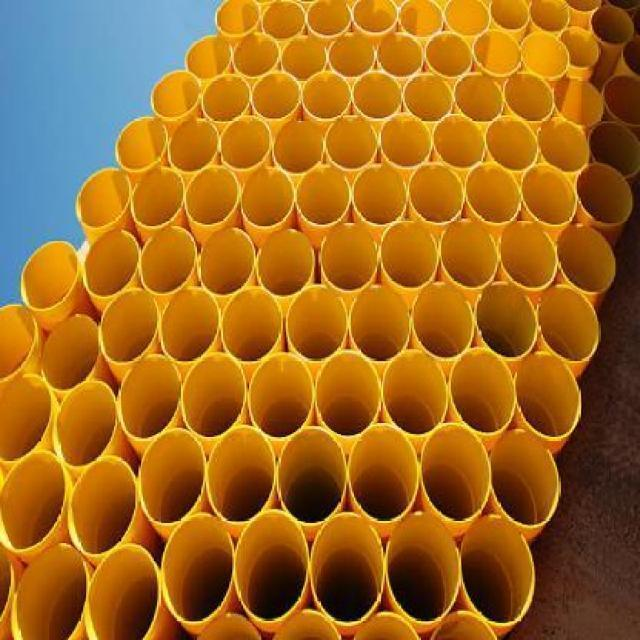pipe: (460, 515, 536, 626), (386, 511, 460, 624), (234, 511, 309, 622), (310, 513, 383, 626), (161, 513, 234, 624), (11, 542, 90, 639), (419, 422, 492, 524), (84, 543, 160, 639), (348, 423, 419, 522), (276, 427, 347, 525), (0, 451, 68, 553), (68, 455, 137, 555), (207, 426, 276, 524), (138, 427, 206, 525), (491, 430, 559, 528), (247, 353, 315, 439), (450, 347, 516, 435), (383, 350, 449, 438), (515, 350, 580, 439), (117, 355, 182, 443), (54, 379, 118, 468), (315, 350, 381, 436), (181, 354, 247, 439), (412, 282, 475, 361), (286, 285, 349, 363), (0, 374, 54, 465), (348, 284, 410, 363), (536, 285, 599, 362), (475, 280, 537, 358), (97, 288, 159, 365), (220, 288, 283, 363), (41, 315, 101, 393), (159, 288, 220, 363), (19, 241, 79, 312), (498, 220, 557, 291), (439, 220, 499, 288), (556, 225, 616, 293), (319, 223, 378, 292), (138, 227, 197, 296), (82, 230, 141, 298), (380, 221, 438, 289), (198, 227, 255, 296), (257, 229, 314, 297), (575, 163, 634, 228), (465, 164, 522, 226), (520, 165, 577, 227), (239, 166, 295, 229), (407, 164, 464, 225), (295, 166, 352, 226), (75, 168, 131, 229), (184, 165, 239, 227), (351, 166, 407, 226), (130, 167, 184, 229), (378, 111, 433, 167), (432, 113, 486, 169), (485, 115, 539, 171), (325, 115, 379, 171), (587, 123, 640, 180), (536, 117, 590, 172), (219, 115, 272, 171), (272, 118, 325, 174), (115, 117, 168, 172), (168, 119, 219, 173), (503, 72, 556, 123), (0, 304, 35, 381), (453, 72, 504, 123), (201, 74, 252, 125), (552, 78, 605, 127), (152, 69, 200, 120), (352, 72, 403, 120), (251, 72, 302, 120), (302, 72, 351, 120), (403, 74, 452, 122), (280, 36, 329, 82), (474, 30, 522, 76), (425, 33, 473, 78), (232, 33, 280, 78), (328, 33, 376, 78), (522, 34, 570, 79), (185, 36, 233, 81), (376, 34, 424, 77), (603, 75, 640, 128), (441, 0, 490, 38), (275, 612, 341, 640), (558, 26, 600, 69), (590, 6, 635, 46), (353, 614, 421, 640), (434, 612, 497, 640), (261, 0, 307, 38), (306, 0, 352, 38), (398, 0, 443, 38), (215, 0, 261, 37), (351, 0, 397, 35), (528, 0, 570, 34), (487, 0, 530, 32)
